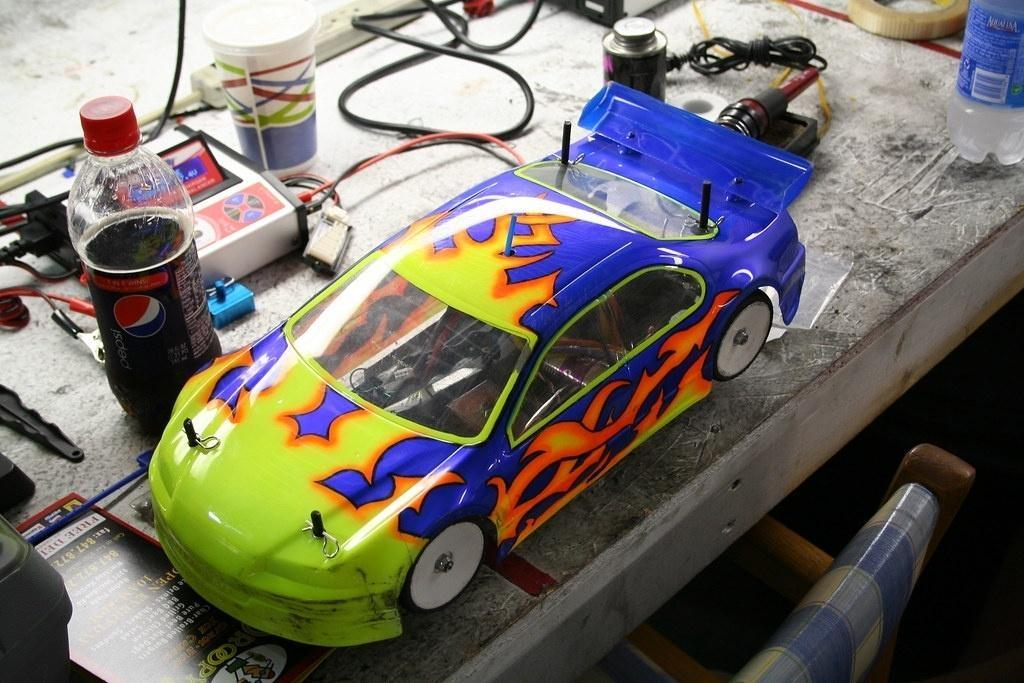Car: (148, 86, 825, 662)
